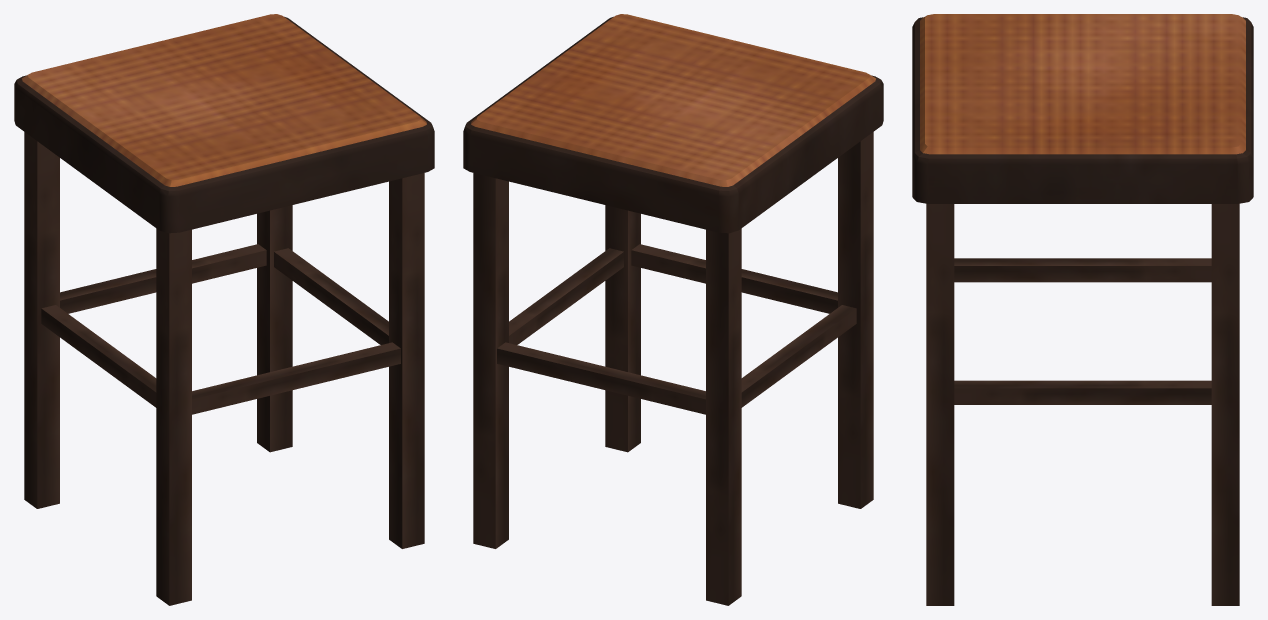
Rendered from stool3.fbx.
The picture shows the model from 3 angles, left to right: view 1: azimuth 30°, elevation 25°; view 2: azimuth 150°, elevation 25°; view 3: azimuth 270°, elevation 25°; orthographic projection. The views are drawn at different scales.
Visible parts, largest first — view 1: polySurface1050; view 2: polySurface1050; view 3: polySurface1050.
Boxes of the visible parts, x1,y1,x2,y2 form: polySurface1050: (14, 14, 434, 605); polySurface1050: (463, 14, 883, 605); polySurface1050: (912, 14, 1253, 605).
Size of the model in its own units: 48.51 by 71.82 by 48.51.
Materials: 1 (1 with a texture image).
